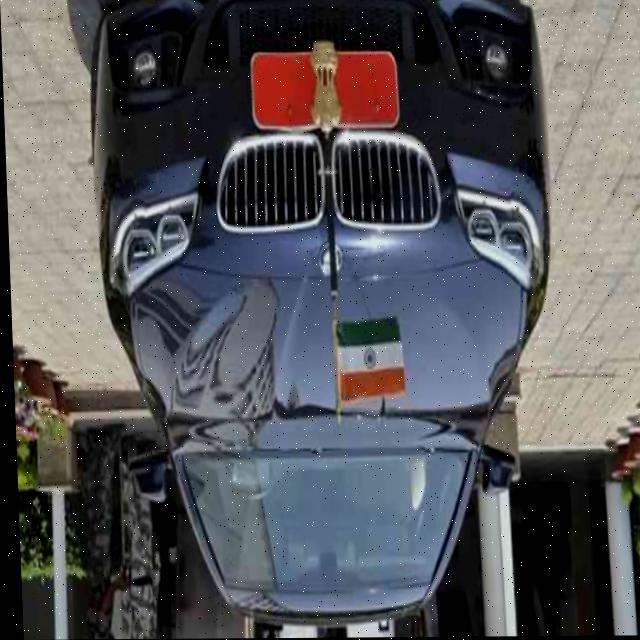plate: (243, 35, 408, 141)
